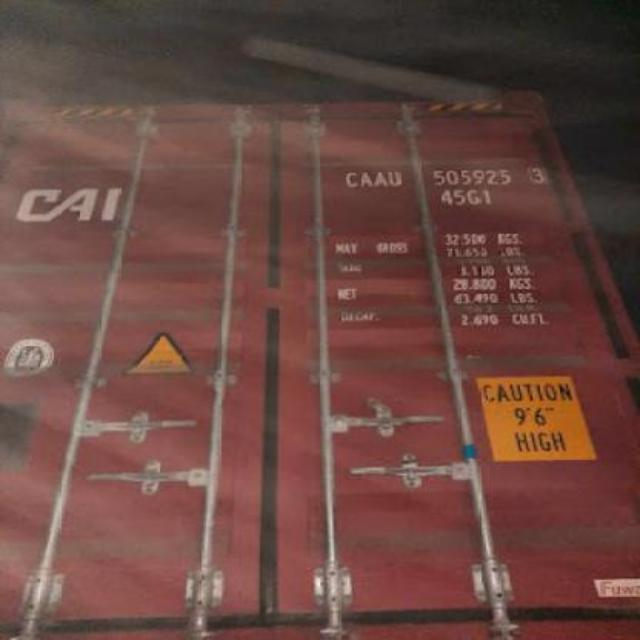0: (446, 170, 459, 186)
2: (486, 169, 499, 185)
3: (532, 168, 544, 182)
5: (496, 169, 514, 185), (432, 169, 446, 187), (460, 169, 472, 187)
9: (470, 169, 486, 185)
A: (372, 174, 386, 188), (360, 170, 372, 186)
C: (344, 172, 358, 190)
U: (386, 170, 402, 186)
